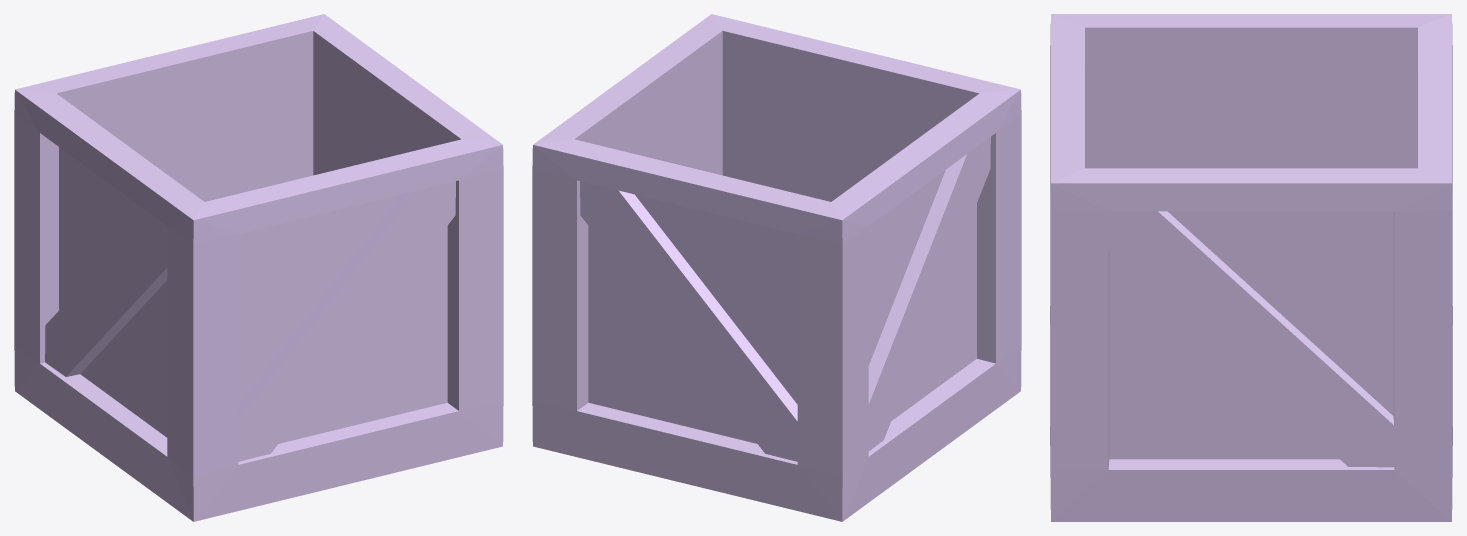
3 views of the same model, side by side, from view 1: azimuth 30°, elevation 25°; view 2: azimuth 150°, elevation 25°; view 3: azimuth 270°, elevation 25° (orthographic). The views are drawn at different scales.
Parts seen in each view (by area): view 1: Crate_LP; view 2: Crate_LP; view 3: Crate_LP.
Part boxes in pixels (left/top/right/bottom): Crate_LP: left=14, top=14, right=503, bottom=521; Crate_LP: left=532, top=14, right=1021, bottom=521; Crate_LP: left=1050, top=14, right=1452, bottom=521.
Size of the model in its own units: 101 by 94.19 by 101.
